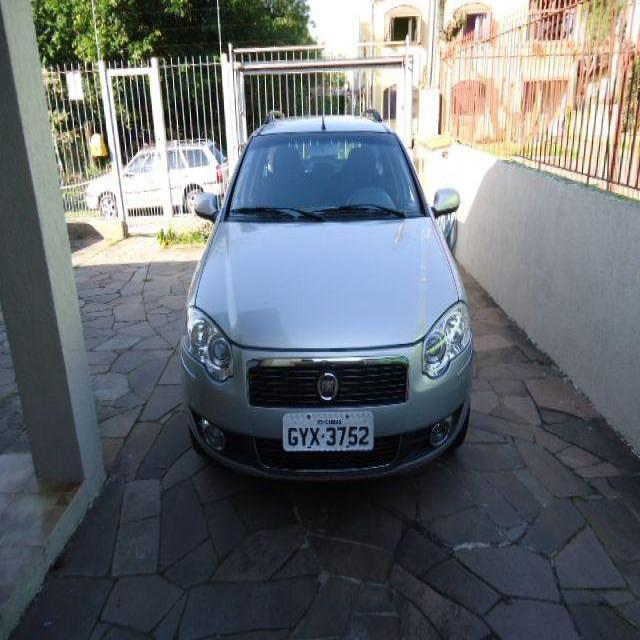Placa: (279, 409, 377, 456)
